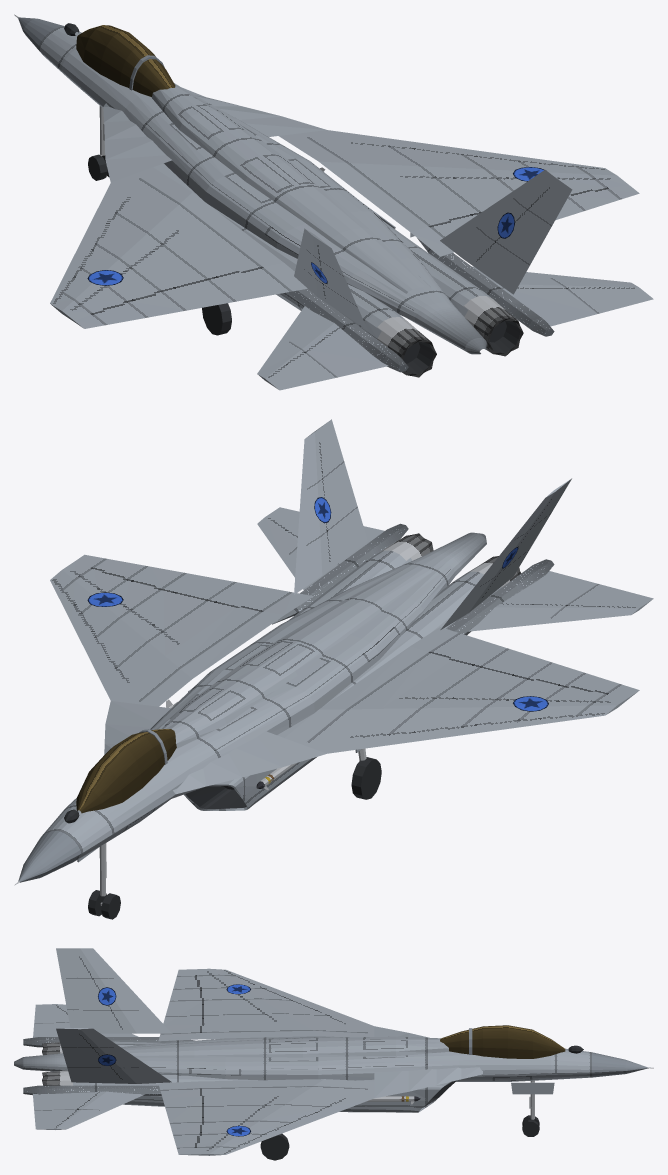
3 renders of one model, top to bottom at view 1: azimuth 30°, elevation 25°; view 2: azimuth 150°, elevation 25°; view 3: azimuth 270°, elevation 25°, orthographic. The views are drawn at different scales.
Visible parts, largest first — view 1: airframe, rudder_r, stab_l, stab_r, canopy, rudder_l, flap_l, aileron_l, aileron_r, gear_main_l, gear_nose; view 2: airframe, rudder_r, stab_l, canopy, rudder_l, flap_l, flap_r, stab_r, aileron_l, aileron_r, gear_main_l, gear_nose; view 3: airframe, rudder_l, rudder_r, canopy, stab_r, flap_r, flap_l, stab_l, aileron_r, aileron_l, gear_main_r, door_nose (+1 smaller).
Part boxes in pixels (<box>): airframe: <box>14,14,639,377</box>; rudder_r: <box>440,170,572,294</box>; stab_l: <box>257,306,388,390</box>; stab_r: <box>472,266,653,326</box>; canopy: <box>76,25,175,96</box>; rudder_l: <box>294,228,367,329</box>; flap_l: <box>164,267,292,310</box>; aileron_l: <box>94,291,187,324</box>; aileron_r: <box>555,188,619,220</box>; gear_main_l: <box>202,303,231,335</box>; gear_nose: <box>88,106,109,180</box>; airframe: <box>14,523,639,885</box>; rudder_r: <box>294,419,367,594</box>; stab_l: <box>468,571,653,631</box>; canopy: <box>76,729,176,813</box>; rudder_l: <box>440,478,571,629</box>; flap_l: <box>429,633,549,677</box>; flap_r: <box>164,573,292,611</box>; stab_r: <box>257,507,384,589</box>; aileron_l: <box>526,662,619,693</box>; aileron_r: <box>94,559,187,589</box>; gear_main_l: <box>351,748,381,799</box>; gear_nose: <box>88,843,120,919</box>; airframe: <box>14,968,653,1155</box>; rudder_l: <box>56,948,171,1033</box>; rudder_r: <box>56,1028,171,1083</box>; canopy: <box>440,1025,565,1058</box>; stab_r: <box>33,1091,144,1129</box>; flap_r: <box>160,1088,202,1122</box>; flap_l: <box>160,1001,202,1034</box>; stab_l: <box>33,1004,138,1037</box>; aileron_r: <box>169,1121,202,1147</box>; aileron_l: <box>169,976,202,1001</box>; gear_main_r: <box>260,1133,289,1160</box>; door_nose: <box>511,1082,554,1094</box>.
Bounding box in the file's own units: 14.1 × 5.18 × 20.6.
6 materials, 6 textured.
